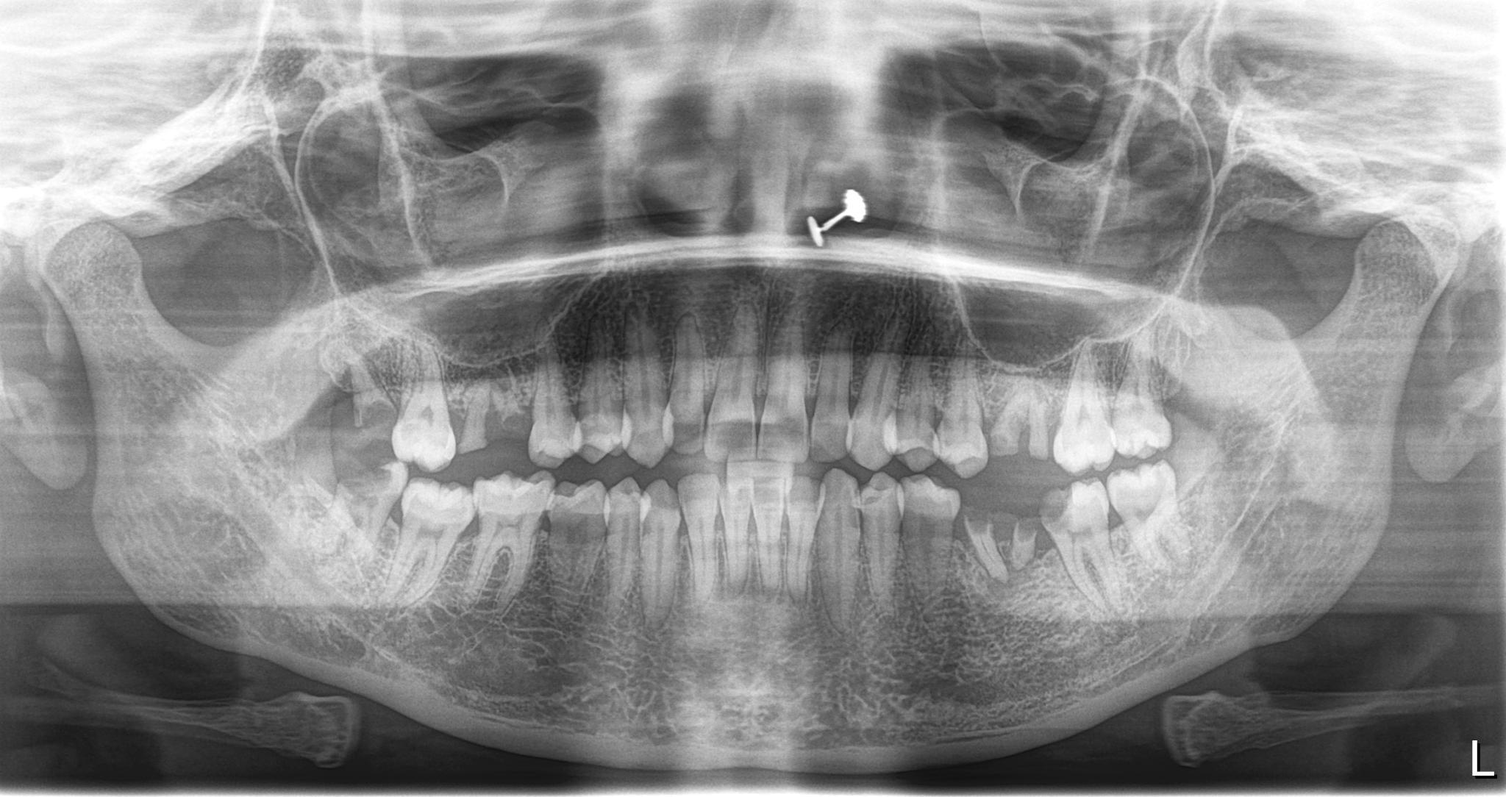Dental Caries: (335, 467, 393, 519), (1048, 487, 1082, 542), (886, 406, 918, 444)
Retained Root: (961, 478, 1043, 610), (456, 360, 527, 462), (338, 360, 390, 445), (998, 368, 1046, 459)
